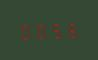five: (48, 20, 62, 39)
six: (63, 19, 77, 38)
zero: (33, 20, 47, 40), (18, 21, 32, 40)
